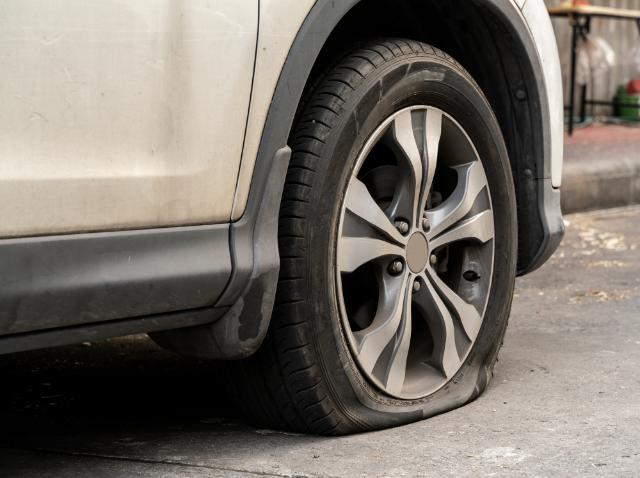tire flat: (282, 37, 520, 438)
